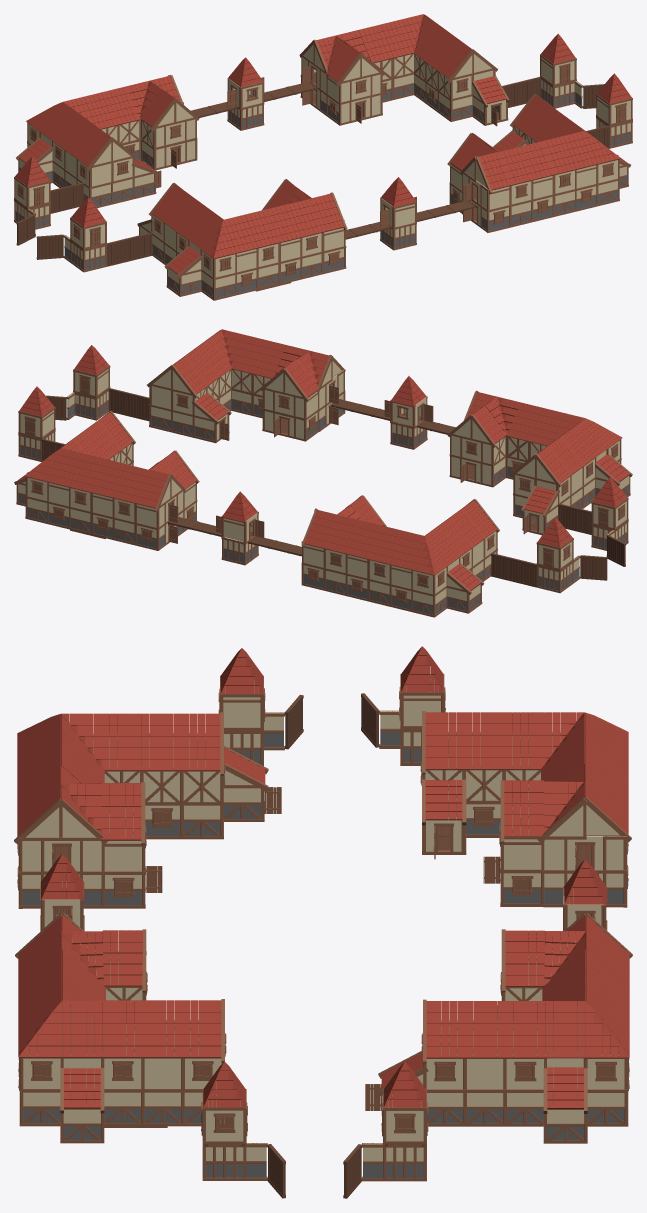
The model's file is City.fbx.
The picture shows the model from 3 angles, top to bottom: view 1: azimuth 30°, elevation 25°; view 2: azimuth 150°, elevation 25°; view 3: azimuth 270°, elevation 25°; orthographic projection. The views are drawn at different scales.
Parts seen in each view (by area): view 1: roof_45degrees_01.104, roof_45degrees_01.142, roof_45degrees_01.155, roof_45degrees_01.146, roof_45degrees_01.129, roof_45degrees_01.160, roof_45degrees_01.148, roof_45degrees_01.131, roof_45degrees_01.123, roof_45degrees_01.134, roof_45degrees_01.138, roof_45degrees_01.157 (+84 smaller); view 2: roof_45degrees_01.144, roof_45degrees_01.099, roof_45degrees_01.122, roof_45degrees_01.161, roof_45degrees_01.128, roof_45degrees_01.106, roof_45degrees_01.110, roof_45degrees_01.163, roof_45degrees_01.166, roof_45degrees_01.170, roof_45degrees_01.172, roof_45degrees_01.124 (+88 smaller); view 3: roof_45degrees_01.165, roof_45degrees_01.103, roof_45degrees_01.105, roof_45degrees_01.117, roof_45degrees_01.159, roof_45degrees_01.150, roof_45degrees_01.125, roof_45degrees_01.137, roof_45degrees_01.139, roof_45degrees_01.141, roof_45degrees_01.153, roof_45degrees_01.114 (+91 smaller).
Part boxes in pixels (x1=…): roof_45degrees_01.104: x1=358, y1=25, x2=393, y2=62; roof_45degrees_01.142: x1=266, y1=204, x2=301, y2=242; roof_45degrees_01.155: x1=288, y1=199, x2=322, y2=237; roof_45degrees_01.146: x1=245, y1=209, x2=279, y2=247; roof_45degrees_01.129: x1=563, y1=131, x2=597, y2=169; roof_45degrees_01.160: x1=105, y1=86, x2=139, y2=124; roof_45degrees_01.148: x1=223, y1=215, x2=257, y2=253; roof_45degrees_01.131: x1=521, y1=141, x2=555, y2=179; roof_45degrees_01.123: x1=381, y1=19, x2=414, y2=57; roof_45degrees_01.134: x1=499, y1=146, x2=533, y2=185; roof_45degrees_01.138: x1=542, y1=136, x2=576, y2=174; roof_45degrees_01.157: x1=84, y1=92, x2=118, y2=129; roof_45degrees_01.144: x1=507, y1=402, x2=542, y2=441; roof_45degrees_01.099: x1=91, y1=459, x2=125, y2=497; roof_45degrees_01.122: x1=113, y1=464, x2=147, y2=502; roof_45degrees_01.161: x1=390, y1=531, x2=424, y2=569; roof_45degrees_01.128: x1=252, y1=340, x2=286, y2=378; roof_45degrees_01.106: x1=69, y1=454, x2=103, y2=492; roof_45degrees_01.110: x1=47, y1=448, x2=82, y2=486; roof_45degrees_01.163: x1=347, y1=520, x2=381, y2=559; roof_45degrees_01.166: x1=325, y1=515, x2=359, y2=553; roof_45degrees_01.170: x1=368, y1=526, x2=403, y2=564; roof_45degrees_01.172: x1=304, y1=510, x2=338, y2=548; roof_45degrees_01.124: x1=231, y1=335, x2=264, y2=373; roof_45degrees_01.165: x1=464, y1=712, x2=504, y2=769; roof_45degrees_01.103: x1=545, y1=1001, x2=585, y2=1058; roof_45degrees_01.105: x1=465, y1=1001, x2=505, y2=1058; roof_45degrees_01.117: x1=505, y1=1001, x2=545, y2=1058; roof_45degrees_01.159: x1=504, y1=712, x2=544, y2=769; roof_45degrees_01.150: x1=141, y1=714, x2=181, y2=770; roof_45degrees_01.125: x1=142, y1=1001, x2=182, y2=1057; roof_45degrees_01.137: x1=102, y1=1001, x2=142, y2=1057; roof_45degrees_01.139: x1=62, y1=1001, x2=102, y2=1057; roof_45degrees_01.141: x1=101, y1=784, x2=141, y2=840; roof_45degrees_01.153: x1=101, y1=714, x2=141, y2=770; roof_45degrees_01.114: x1=426, y1=1001, x2=465, y2=1058.
Size of the model in its own units: 54.87 by 6.26 by 30.62.
